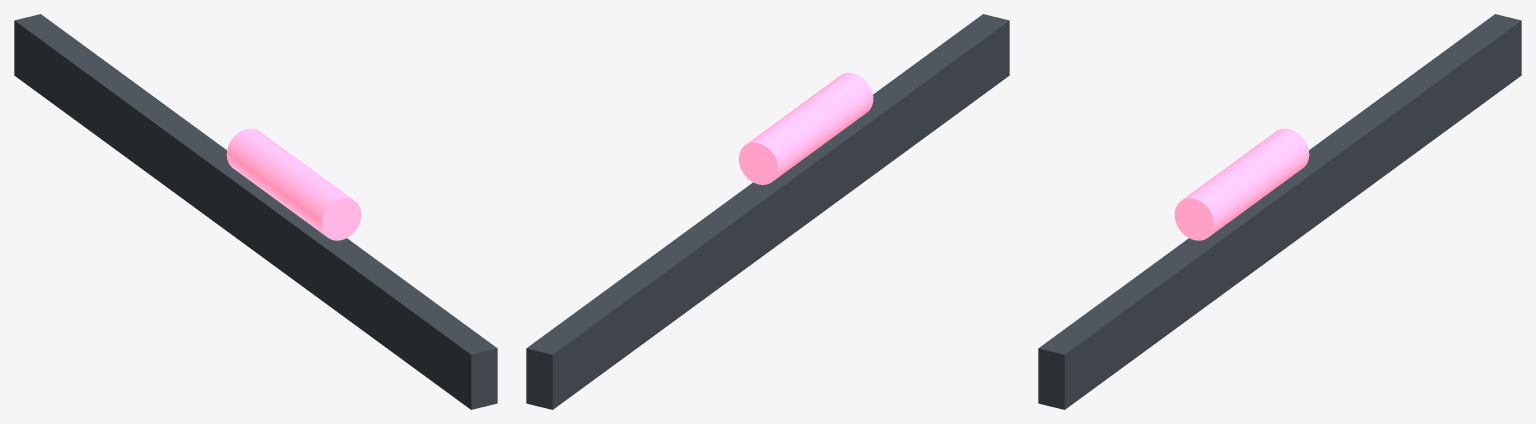
File: cyber_sniper_rifle.glb
The picture shows the model from 3 angles, left to right: view 1: azimuth 30°, elevation 25°; view 2: azimuth 150°, elevation 25°; view 3: azimuth 330°, elevation 25°; orthographic projection.
Visible parts, largest first — view 1: Cube, Cylinder; view 2: Cube, Cylinder; view 3: Cube, Cylinder.
Boxes of the visible parts, bbox=[...] form: Cube: bbox=[14, 14, 497, 409]; Cylinder: bbox=[226, 128, 361, 240]; Cube: bbox=[526, 14, 1009, 409]; Cylinder: bbox=[738, 73, 873, 184]; Cube: bbox=[1038, 14, 1521, 409]; Cylinder: bbox=[1174, 128, 1309, 240].
Size of the model in its own units: 0.06 by 0.15 by 1.2.
